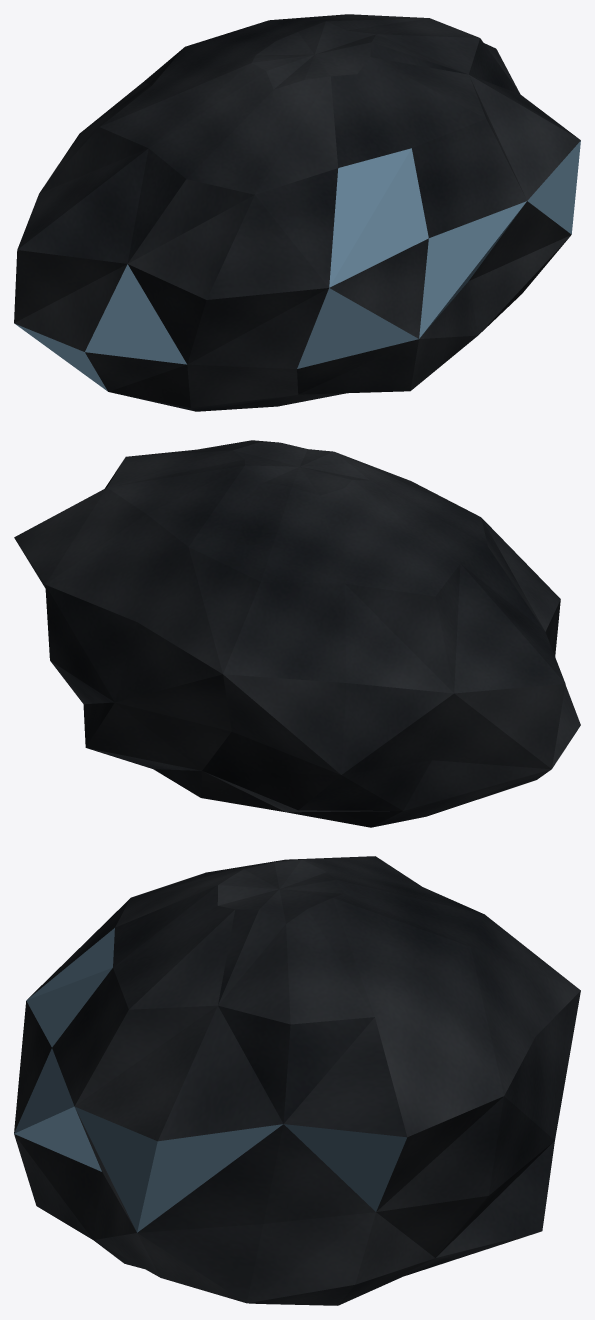
File: Superdense_Loose_B.glb
3 views of the same model, one above another, from view 1: azimuth 30°, elevation 25°; view 2: azimuth 150°, elevation 25°; view 3: azimuth 270°, elevation 25° (orthographic). The views are drawn at different scales.
Parts seen in each view (by area): view 1: Superdense_Loose_B_LOD0; view 2: Superdense_Loose_B_LOD0; view 3: Superdense_Loose_B_LOD0.
Part boxes in pixels (x1,y1,x2,y2): Superdense_Loose_B_LOD0: (14, 14, 580, 411); Superdense_Loose_B_LOD0: (14, 440, 580, 827); Superdense_Loose_B_LOD0: (14, 856, 580, 1305).
Size of what is drawn, in the model's own units: 2.26 by 1.28 by 1.76.
2 materials, 1 textured.
